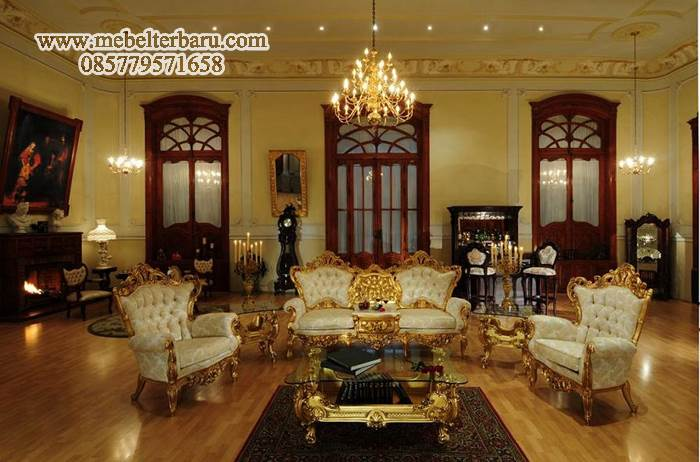Carving Chair: (281, 250, 475, 367), (524, 274, 660, 415), (112, 262, 244, 404)
Carving Table: (289, 356, 470, 440)
